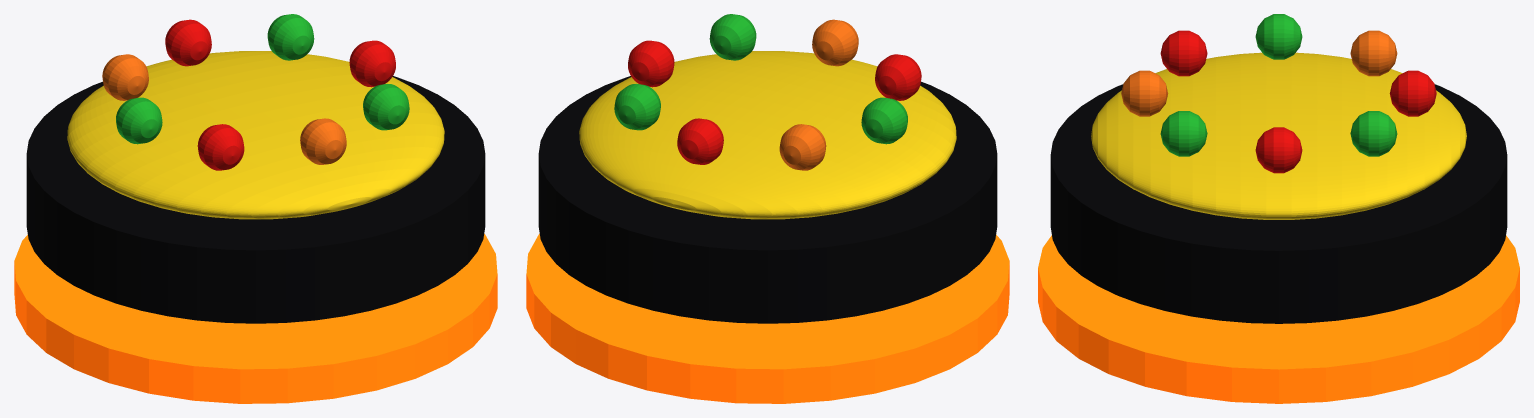
Rendered from spanish_paella.dae.
3 renders of one model, left to right at view 1: azimuth 30°, elevation 25°; view 2: azimuth 150°, elevation 25°; view 3: azimuth 270°, elevation 25°, orthographic.
Visible parts, largest first — view 1: 11_04_Popular_Spanish_Paella_part_01, 11_04_Popular_Spanish_Paella_part_02, 11_04_Popular_Spanish_Paella_ROOT_base, 11_04_Popular_Spanish_Paella_part_04, 11_04_Popular_Spanish_Paella_part_05, 11_04_Popular_Spanish_Paella_part_06, 11_04_Popular_Spanish_Paella_part_10, 11_04_Popular_Spanish_Paella_part_09, 11_04_Popular_Spanish_Paella_part_03, 11_04_Popular_Spanish_Paella_part_07, 11_04_Popular_Spanish_Paella_part_08; view 2: 11_04_Popular_Spanish_Paella_part_01, 11_04_Popular_Spanish_Paella_part_02, 11_04_Popular_Spanish_Paella_ROOT_base, 11_04_Popular_Spanish_Paella_part_08, 11_04_Popular_Spanish_Paella_part_09, 11_04_Popular_Spanish_Paella_part_10, 11_04_Popular_Spanish_Paella_part_04, 11_04_Popular_Spanish_Paella_part_05, 11_04_Popular_Spanish_Paella_part_03, 11_04_Popular_Spanish_Paella_part_07, 11_04_Popular_Spanish_Paella_part_06; view 3: 11_04_Popular_Spanish_Paella_part_01, 11_04_Popular_Spanish_Paella_part_02, 11_04_Popular_Spanish_Paella_ROOT_base, 11_04_Popular_Spanish_Paella_part_06, 11_04_Popular_Spanish_Paella_part_08, 11_04_Popular_Spanish_Paella_part_03, 11_04_Popular_Spanish_Paella_part_05, 11_04_Popular_Spanish_Paella_part_09, 11_04_Popular_Spanish_Paella_part_07, 11_04_Popular_Spanish_Paella_part_04, 11_04_Popular_Spanish_Paella_part_10.
Part boxes in pixels (x1=…): 11_04_Popular_Spanish_Paella_part_01: x1=26, y1=76, x2=485, y2=323; 11_04_Popular_Spanish_Paella_part_02: x1=67, y1=51, x2=444, y2=219; 11_04_Popular_Spanish_Paella_ROOT_base: x1=14, y1=234, x2=497, y2=403; 11_04_Popular_Spanish_Paella_part_04: x1=363, y1=84, x2=409, y2=130; 11_04_Popular_Spanish_Paella_part_05: x1=300, y1=118, x2=346, y2=164; 11_04_Popular_Spanish_Paella_part_06: x1=197, y1=124, x2=244, y2=170; 11_04_Popular_Spanish_Paella_part_10: x1=267, y1=14, x2=314, y2=60; 11_04_Popular_Spanish_Paella_part_09: x1=165, y1=19, x2=211, y2=66; 11_04_Popular_Spanish_Paella_part_03: x1=349, y1=40, x2=395, y2=87; 11_04_Popular_Spanish_Paella_part_07: x1=116, y1=97, x2=162, y2=144; 11_04_Popular_Spanish_Paella_part_08: x1=102, y1=54, x2=148, y2=100; 11_04_Popular_Spanish_Paella_part_01: x1=538, y1=76, x2=997, y2=323; 11_04_Popular_Spanish_Paella_part_02: x1=579, y1=51, x2=956, y2=219; 11_04_Popular_Spanish_Paella_ROOT_base: x1=526, y1=234, x2=1009, y2=403; 11_04_Popular_Spanish_Paella_part_08: x1=779, y1=124, x2=826, y2=170; 11_04_Popular_Spanish_Paella_part_09: x1=677, y1=118, x2=723, y2=164; 11_04_Popular_Spanish_Paella_part_10: x1=614, y1=84, x2=660, y2=130; 11_04_Popular_Spanish_Paella_part_04: x1=709, y1=14, x2=756, y2=60; 11_04_Popular_Spanish_Paella_part_05: x1=812, y1=19, x2=858, y2=66; 11_04_Popular_Spanish_Paella_part_03: x1=628, y1=40, x2=674, y2=87; 11_04_Popular_Spanish_Paella_part_07: x1=861, y1=97, x2=907, y2=144; 11_04_Popular_Spanish_Paella_part_06: x1=875, y1=54, x2=921, y2=100; 11_04_Popular_Spanish_Paella_part_01: x1=1050, y1=84, x2=1507, y2=323; 11_04_Popular_Spanish_Paella_part_02: x1=1091, y1=52, x2=1466, y2=219; 11_04_Popular_Spanish_Paella_ROOT_base: x1=1038, y1=235, x2=1519, y2=403; 11_04_Popular_Spanish_Paella_part_06: x1=1160, y1=30, x2=1207, y2=76; 11_04_Popular_Spanish_Paella_part_08: x1=1350, y1=30, x2=1397, y2=76; 11_04_Popular_Spanish_Paella_part_03: x1=1255, y1=127, x2=1302, y2=173; 11_04_Popular_Spanish_Paella_part_05: x1=1121, y1=70, x2=1168, y2=116; 11_04_Popular_Spanish_Paella_part_09: x1=1389, y1=70, x2=1436, y2=116; 11_04_Popular_Spanish_Paella_part_07: x1=1255, y1=14, x2=1302, y2=59; 11_04_Popular_Spanish_Paella_part_04: x1=1160, y1=111, x2=1207, y2=156; 11_04_Popular_Spanish_Paella_part_10: x1=1350, y1=111, x2=1397, y2=156.
Bounding box in the file's own units: 0.76 × 0.3991 × 0.76.
